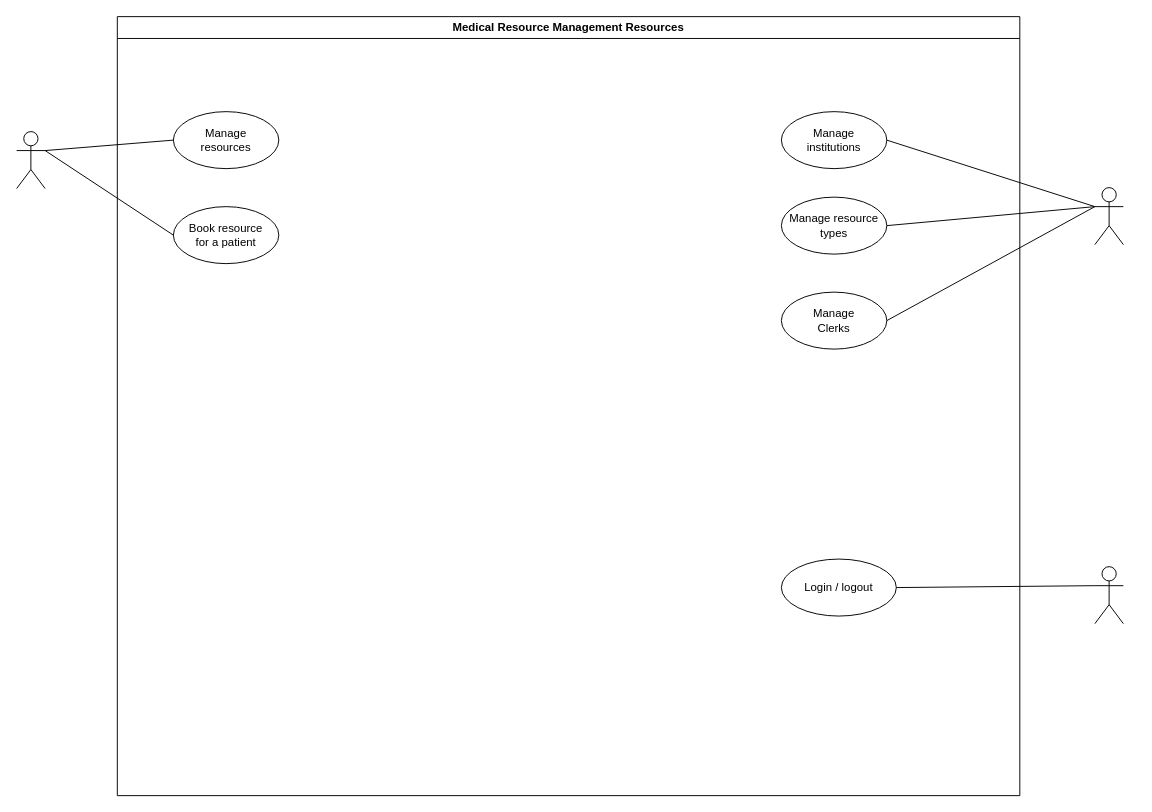
Some shapes in this 1152 by 812 pixel diagram are drawn without their labels. Each missing label, with the box of its shape:
Admin: (1094, 187, 1123, 245)
Clerk: (16, 131, 45, 189)
Everybody: (1094, 566, 1123, 624)
